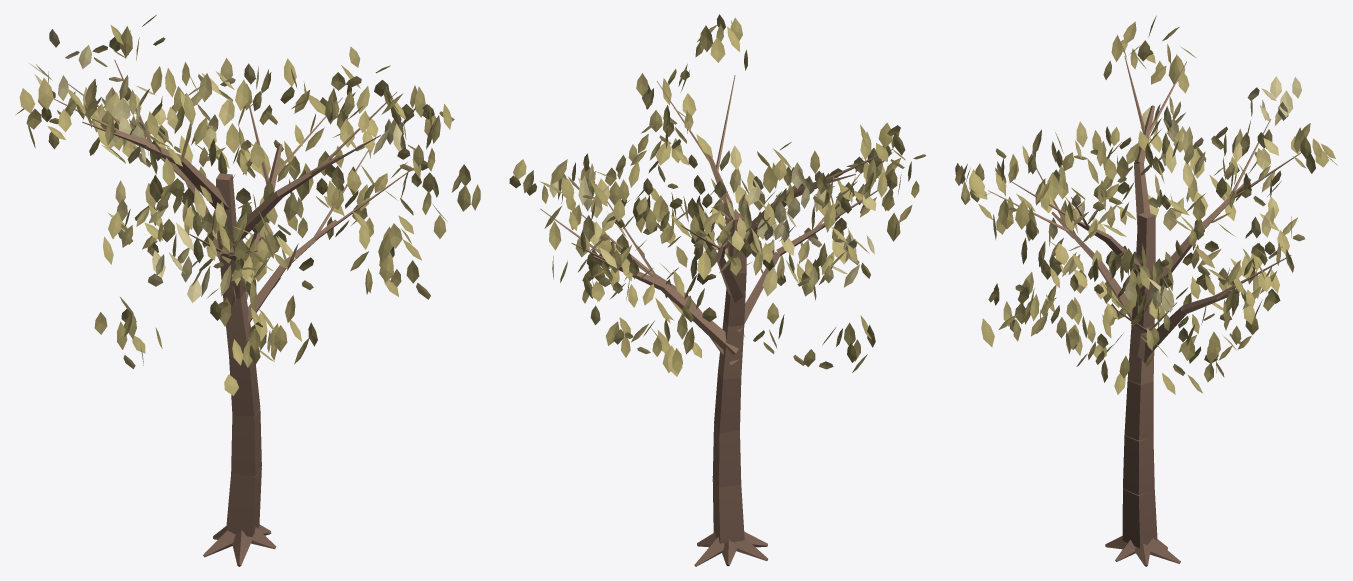
File: tree_3d_01_yellow.glb
3 views of the same model, side by side, from view 1: azimuth 30°, elevation 25°; view 2: azimuth 150°, elevation 25°; view 3: azimuth 270°, elevation 25° (orthographic). The views are drawn at different scales.
Parts seen in each view (by area): view 1: tree_3d_01_yellow_foliage, tree_3d_01_yellow_wood; view 2: tree_3d_01_yellow_foliage, tree_3d_01_yellow_wood; view 3: tree_3d_01_yellow_foliage, tree_3d_01_yellow_wood.
Boxes of the visible parts, box(x1,y1,x2,y2) form: tree_3d_01_yellow_foliage: box(16, 14, 480, 395); tree_3d_01_yellow_wood: box(54, 59, 413, 566); tree_3d_01_yellow_foliage: box(509, 14, 926, 376); tree_3d_01_yellow_wood: box(540, 75, 892, 566); tree_3d_01_yellow_foliage: box(955, 15, 1337, 394); tree_3d_01_yellow_wood: box(988, 56, 1301, 566).
Bounding box in the file's own units: 7.5 × 9 × 6.8.
